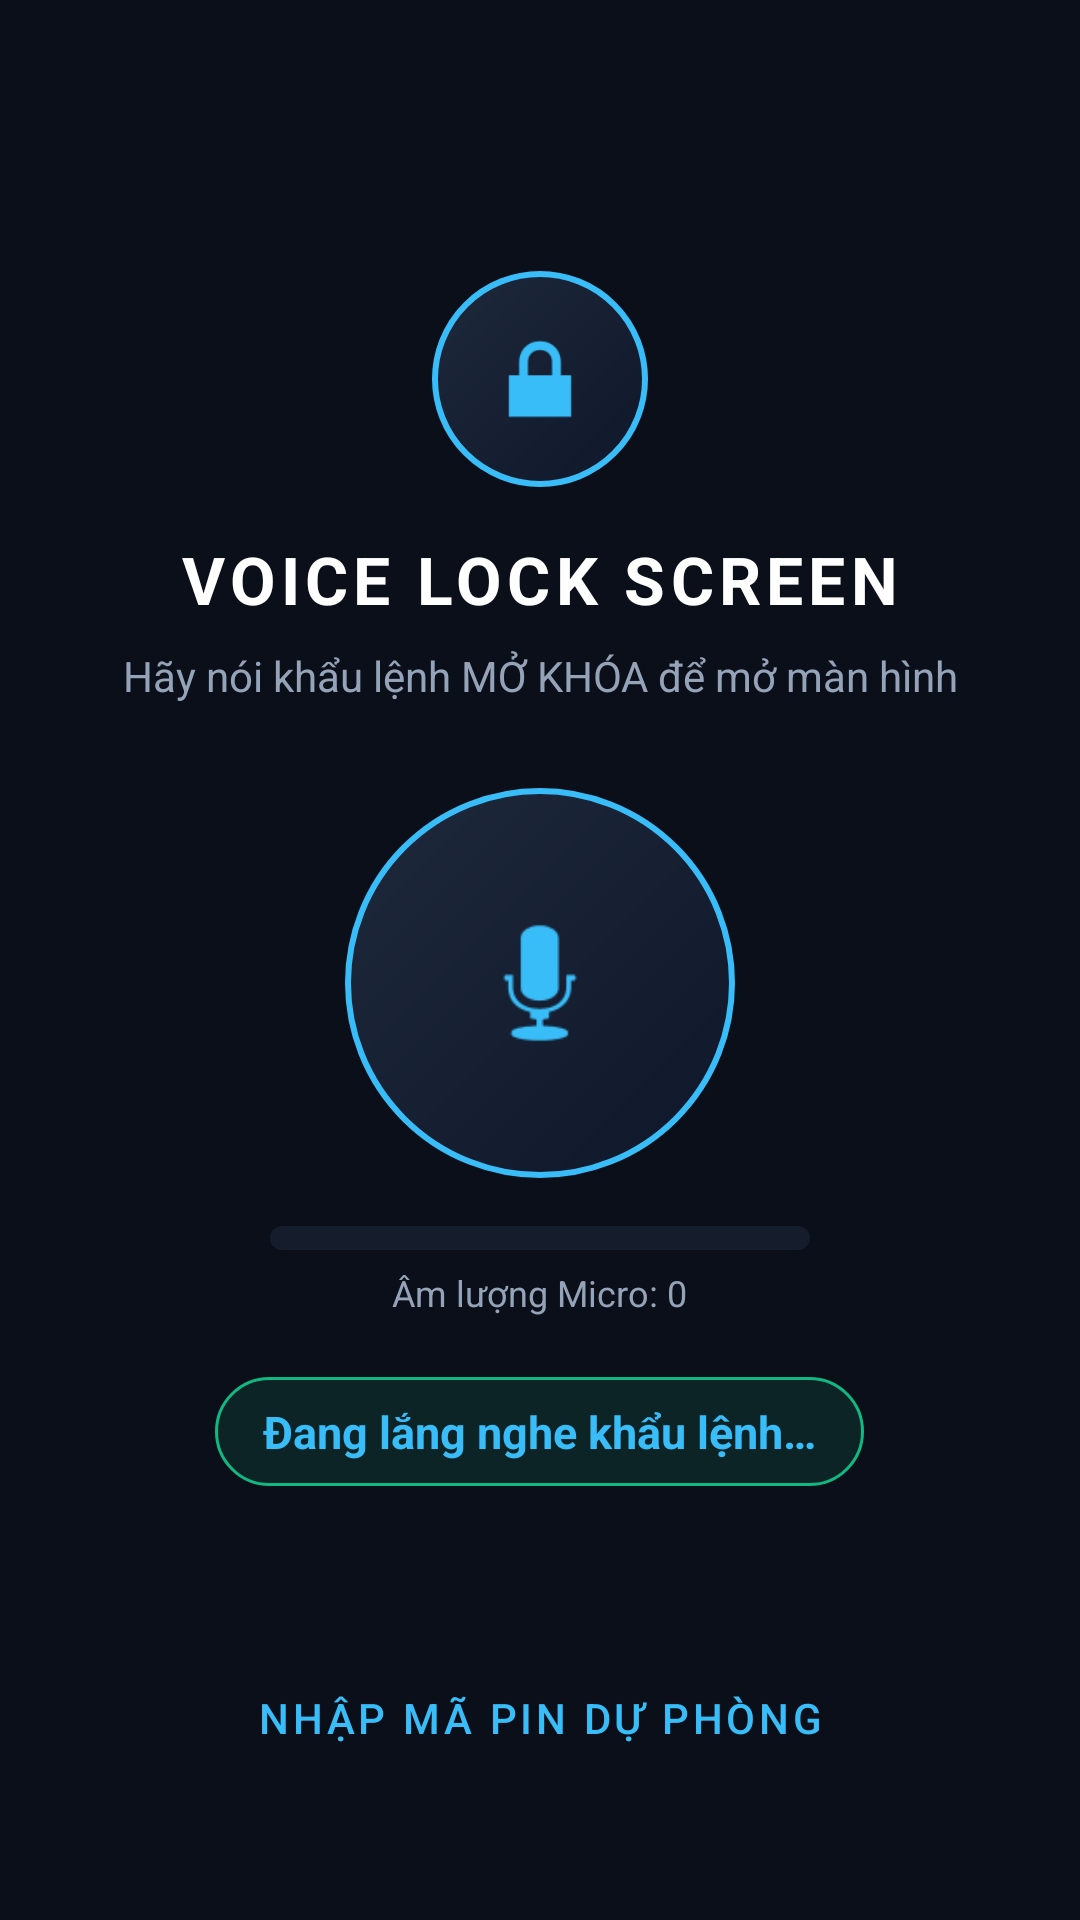

Icons on this 1080px x 1920px Android screen, each with its box as (x1, y1, x2, y2):
Microphone Icon: (503, 925, 577, 1041)
